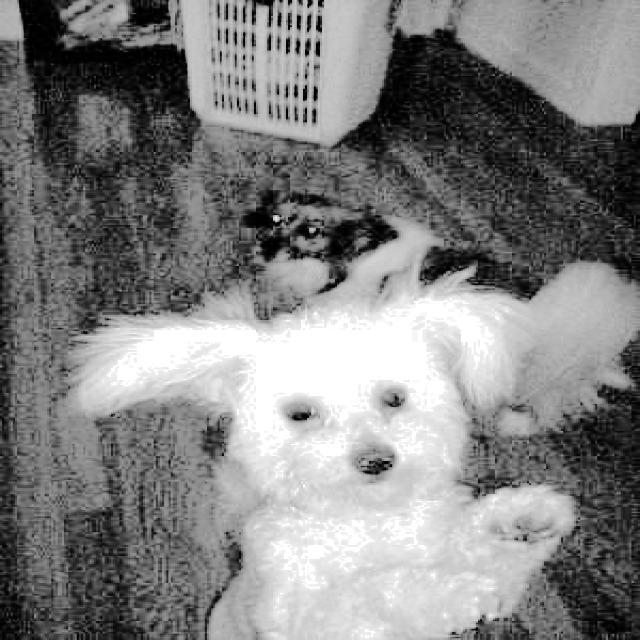Dog: (83, 317, 608, 640), (243, 162, 535, 296)
